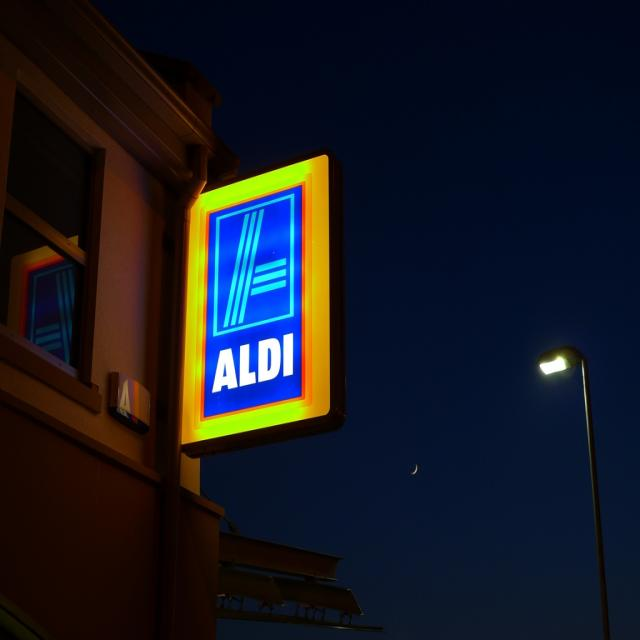aldi: (179, 154, 332, 446)
